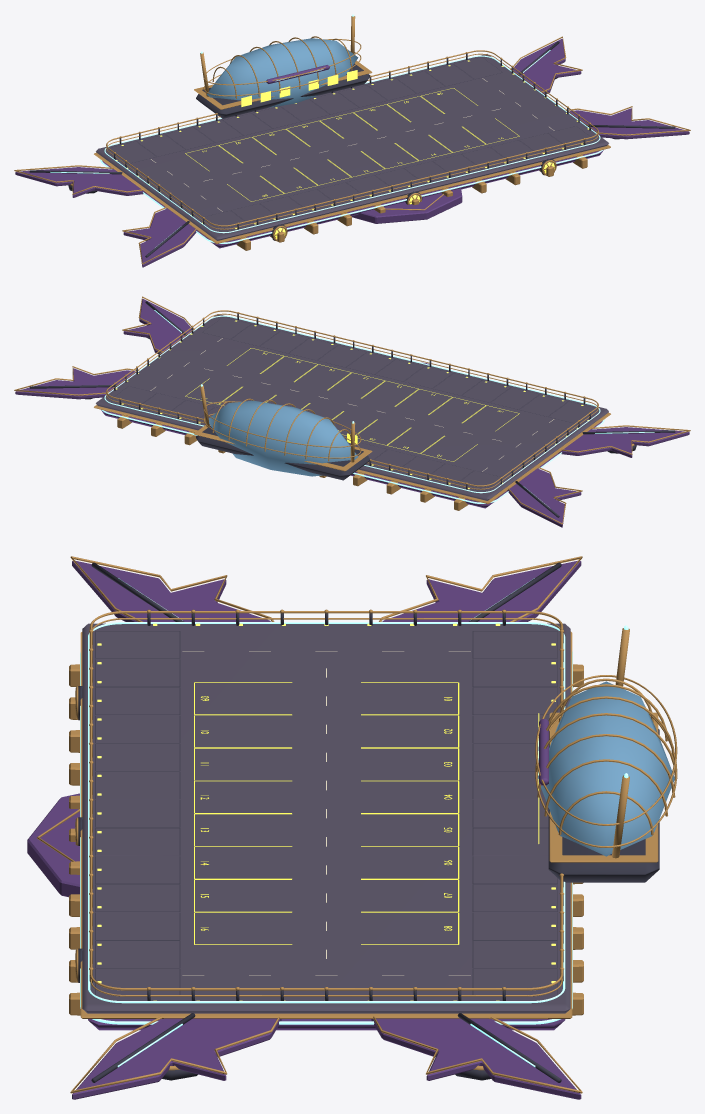
Rendered from A055-hub-structure-native-optimized.glb.
The picture shows the model from 3 angles, top to bottom: view 1: azimuth 30°, elevation 25°; view 2: azimuth 150°, elevation 25°; view 3: azimuth 270°, elevation 25°; orthographic projection. The views are drawn at different scales.
Visible parts, largest first — view 1: Mothership_Structure__Deck_plum_graphite, Mothership_Structure__Hull_plum_anodized_alloy, Mothership_Structure__Trim_warm_bronze, Mothership_Structure__Cabin_blue_glass_enamel, Mothership_Structure__Hull_graphite_violet, Mothership_Structure__Light_spectral_mint, Mothership_Structure__Markings_pumpkin_amber, Mothership_Structure__Light_lantern_honey; view 2: Mothership_Structure__Deck_plum_graphite, Mothership_Structure__Trim_warm_bronze, Mothership_Structure__Hull_plum_anodized_alloy, Mothership_Structure__Cabin_blue_glass_enamel, Mothership_Structure__Hull_graphite_violet, Mothership_Structure__Light_spectral_mint, Mothership_Structure__Markings_pumpkin_amber; view 3: Mothership_Structure__Deck_plum_graphite, Mothership_Structure__Hull_plum_anodized_alloy, Mothership_Structure__Trim_warm_bronze, Mothership_Structure__Cabin_blue_glass_enamel, Mothership_Structure__Hull_graphite_violet, Mothership_Structure__Light_spectral_mint, Mothership_Structure__Markings_pumpkin_amber.
Boxes of the visible parts, bbox=[...] form: Mothership_Structure__Deck_plum_graphite: bbox=[96, 54, 608, 240]; Mothership_Structure__Hull_plum_anodized_alloy: bbox=[15, 39, 689, 267]; Mothership_Structure__Trim_warm_bronze: bbox=[14, 16, 690, 264]; Mothership_Structure__Cabin_blue_glass_enamel: bbox=[206, 38, 358, 107]; Mothership_Structure__Hull_graphite_violet: bbox=[29, 41, 675, 257]; Mothership_Structure__Light_spectral_mint: bbox=[50, 14, 602, 247]; Mothership_Structure__Markings_pumpkin_amber: bbox=[185, 88, 519, 201]; Mothership_Structure__Light_lantern_honey: bbox=[116, 60, 588, 238]; Mothership_Structure__Deck_plum_graphite: bbox=[96, 314, 608, 500]; Mothership_Structure__Trim_warm_bronze: bbox=[14, 296, 690, 524]; Mothership_Structure__Hull_plum_anodized_alloy: bbox=[15, 299, 689, 527]; Mothership_Structure__Cabin_blue_glass_enamel: bbox=[208, 400, 357, 476]; Mothership_Structure__Hull_graphite_violet: bbox=[29, 301, 675, 517]; Mothership_Structure__Light_spectral_mint: bbox=[102, 310, 654, 507]; Mothership_Structure__Markings_pumpkin_amber: bbox=[185, 348, 519, 461]; Mothership_Structure__Deck_plum_graphite: bbox=[82, 623, 570, 1013]; Mothership_Structure__Hull_plum_anodized_alloy: bbox=[27, 560, 581, 1099]; Mothership_Structure__Trim_warm_bronze: bbox=[37, 556, 677, 1093]; Mothership_Structure__Cabin_blue_glass_enamel: bbox=[537, 681, 674, 856]; Mothership_Structure__Hull_graphite_violet: bbox=[78, 562, 659, 1082]; Mothership_Structure__Light_spectral_mint: bbox=[80, 578, 628, 1067]; Mothership_Structure__Markings_pumpkin_amber: bbox=[194, 682, 459, 944].
Size of the model in its own units: 1 by 0.1349 by 0.5129.
